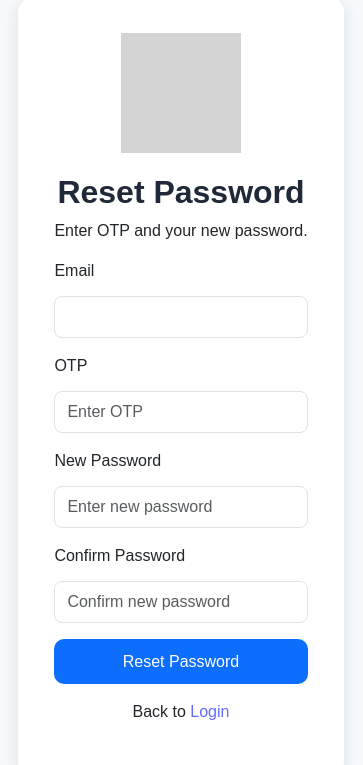
Test: ResetPassword Component › shows error when passwords do not match
Type "123456" into the password field with placeholder "Enter new password".
click(181, 507); type("123456")  # box [54,486,308,528]
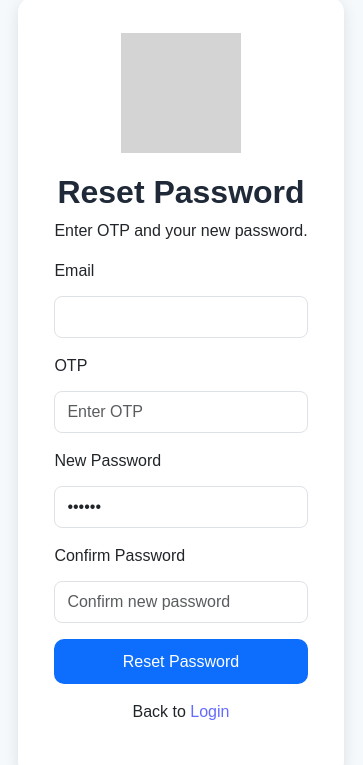
Type "654321" into the password field with placeholder "Confirm new password".
click(181, 602); type("654321")  # box [54,581,308,623]
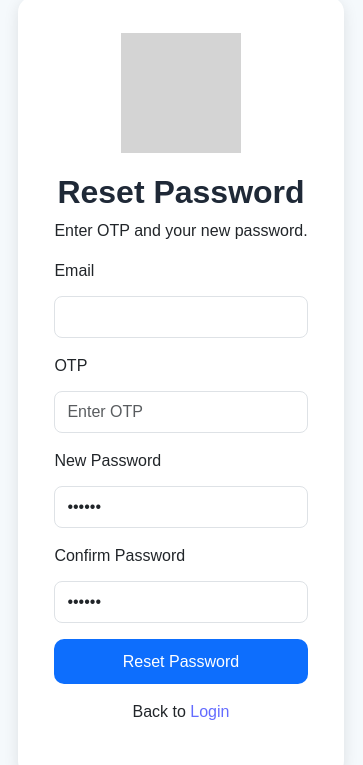
Click the button "Reset Password".
click(181, 662)  # box [54,639,308,684]
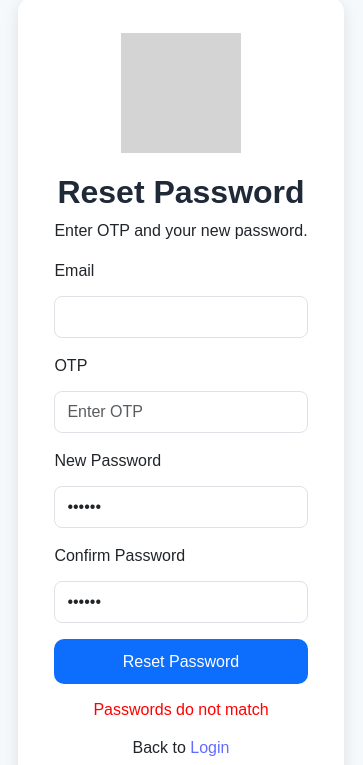
Now the heading "Passwords do not match" is shown, box [93,701,269,718]
